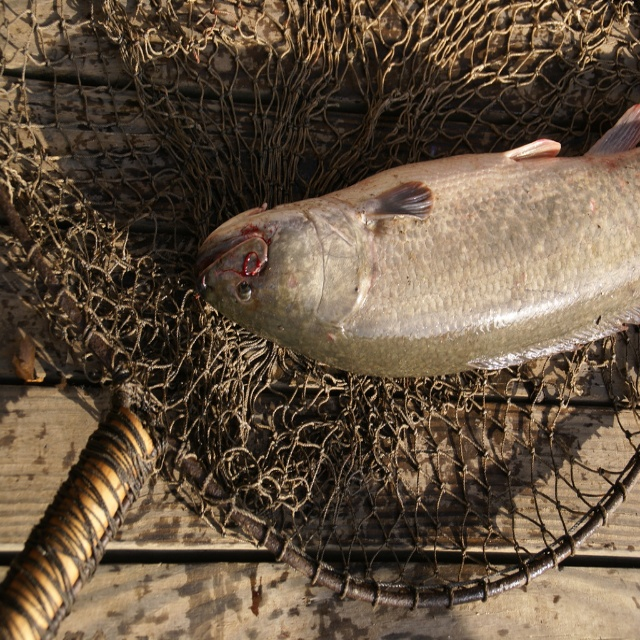Fish: (184, 134, 624, 408)
